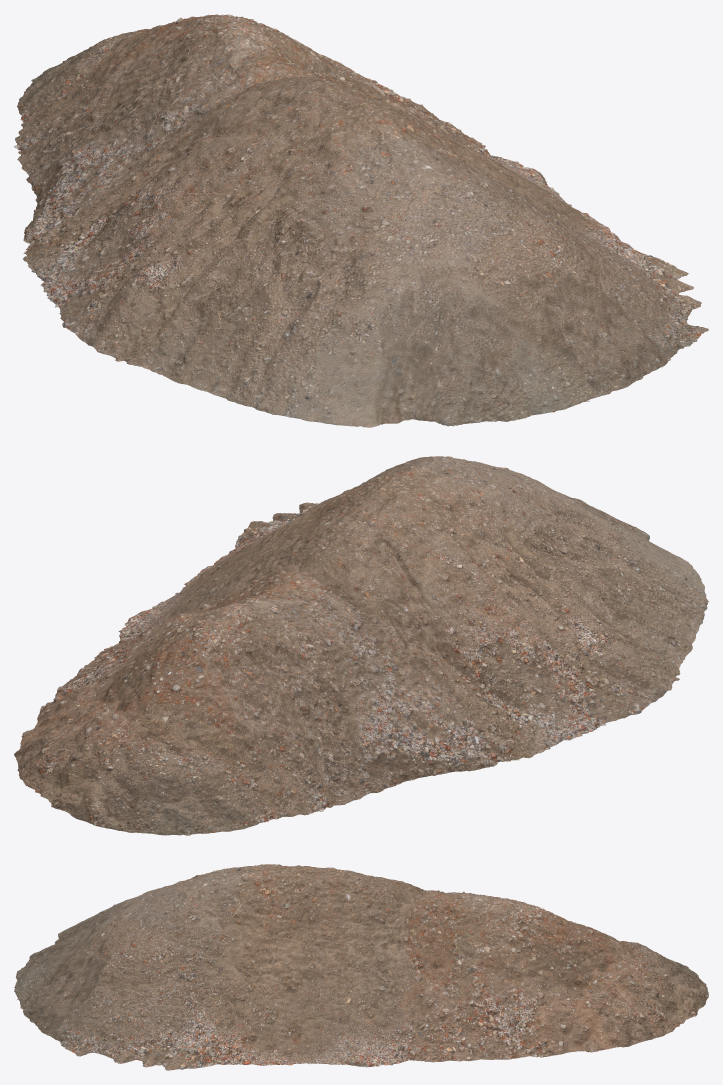
Rendered from large_earth_pile.glb.
The picture shows the model from 3 angles, top to bottom: view 1: azimuth 30°, elevation 25°; view 2: azimuth 150°, elevation 25°; view 3: azimuth 270°, elevation 25°; orthographic projection. The views are drawn at different scales.
Parts seen in each view (by area): view 1: Model; view 2: Model; view 3: Model.
Part boxes in pixels (box(x1,y1,x2,y2)): Model: box(14, 14, 708, 427); Model: box(14, 456, 708, 835); Model: box(14, 864, 708, 1070).
Bounding box in the file's own units: 18.64 × 5.59 × 29.89.
Materials: 2 (2 with a texture image).
